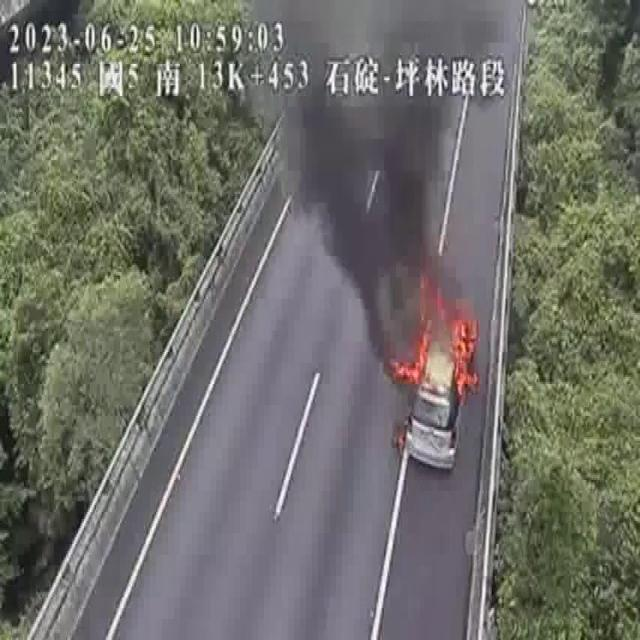Fire: (398, 298, 482, 400)
Smoke: (286, 12, 470, 330)
